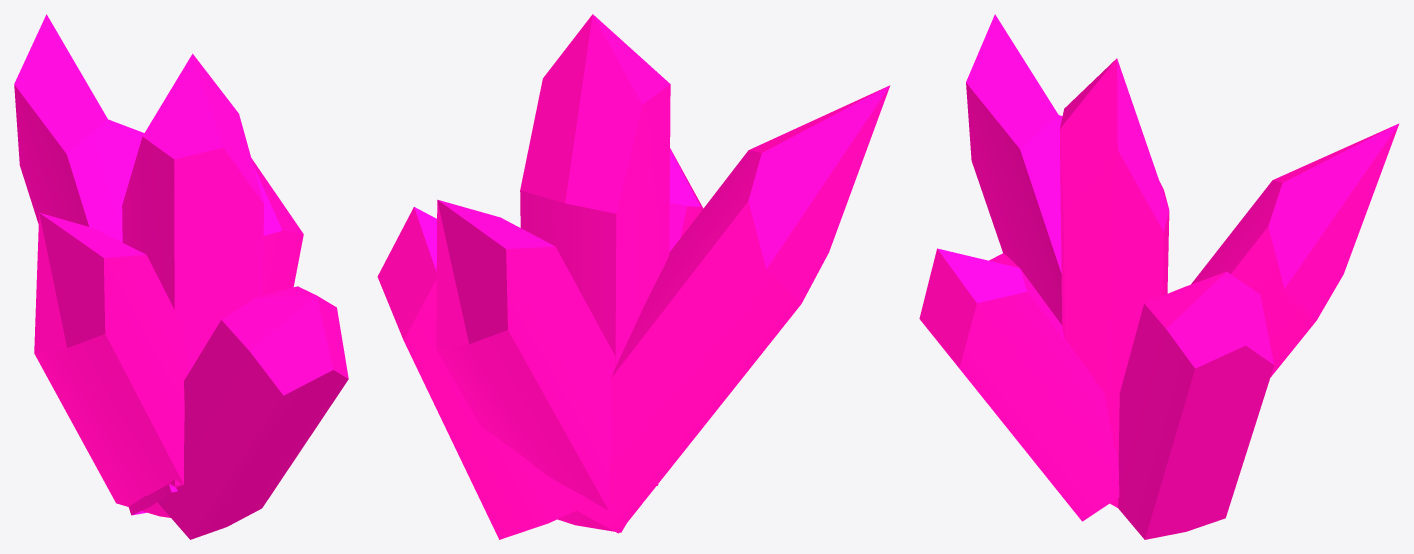
Rendered from crystal pequeno .fbx.
The picture shows the model from 3 angles, left to right: view 1: azimuth 30°, elevation 25°; view 2: azimuth 150°, elevation 25°; view 3: azimuth 270°, elevation 25°; orthographic projection. The views are drawn at different scales.
Parts seen in each view (by area): view 1: Cube.001; view 2: Cube.001; view 3: Cube.001.
Part boxes in pixels (x1,y1,x2,y2): Cube.001: (14,14,348,539); Cube.001: (377,14,890,539); Cube.001: (919,14,1399,539).
Bounding box in the file's own units: 131 × 159 × 153.
